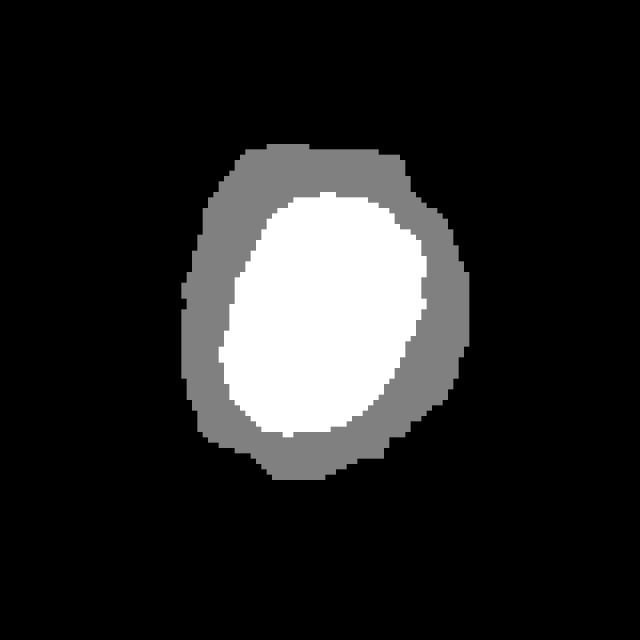WBC: (171, 123, 501, 501)
